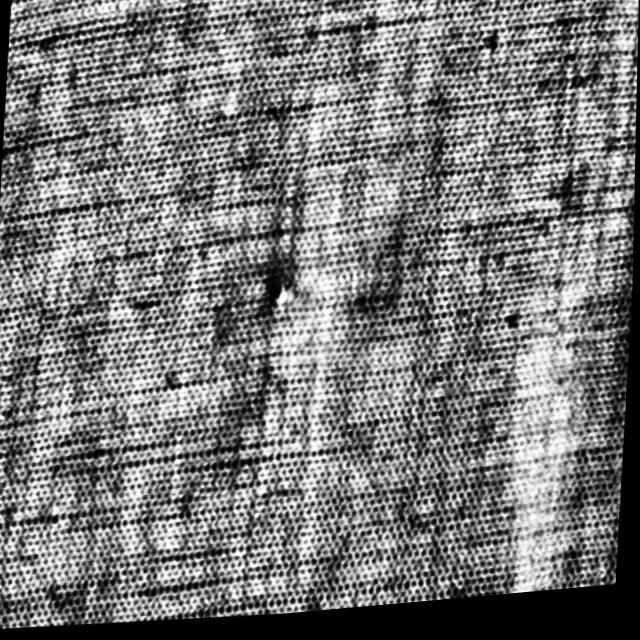Hole: (263, 272, 296, 319)
